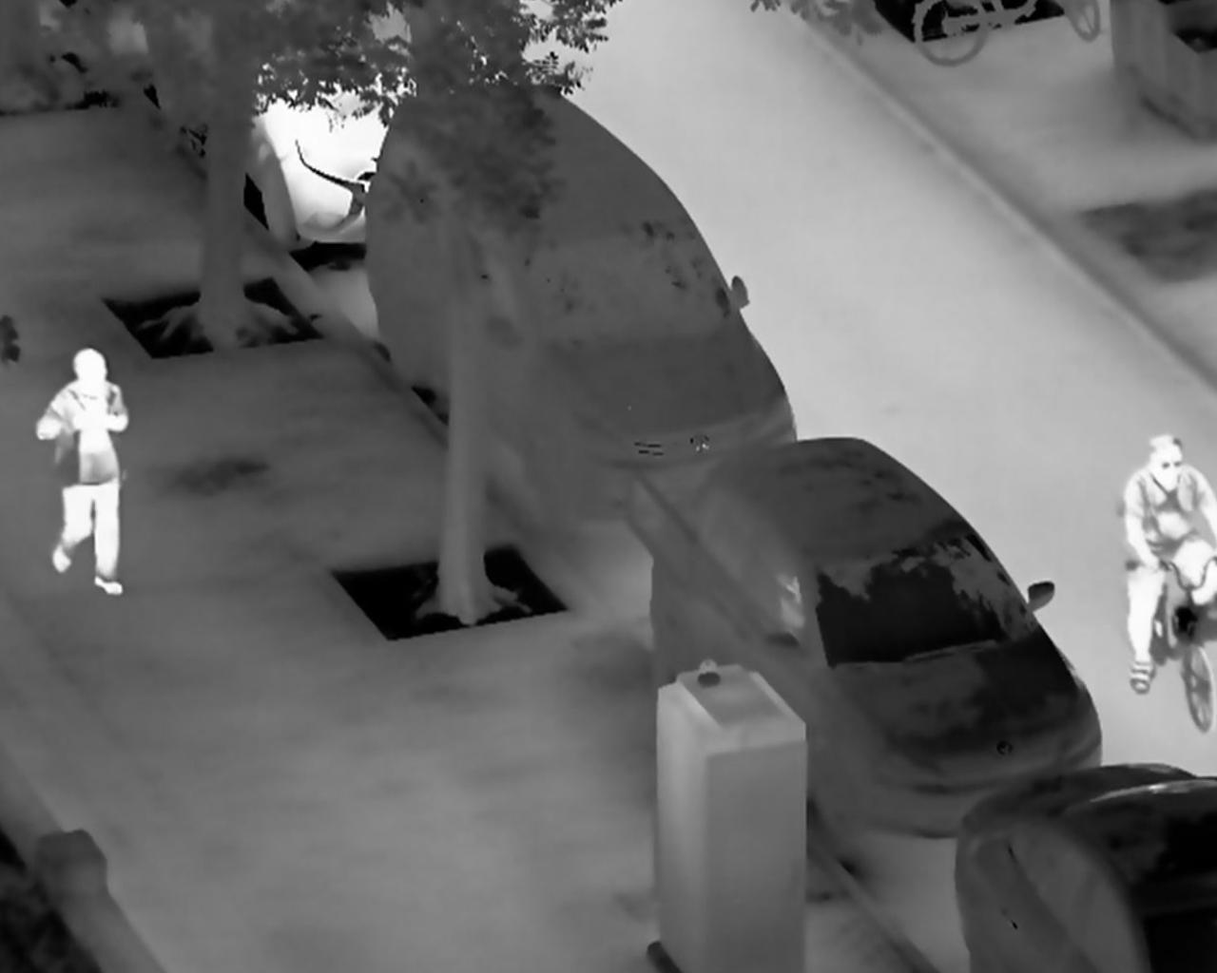person: (1111, 434, 1217, 696), (32, 344, 130, 599)
